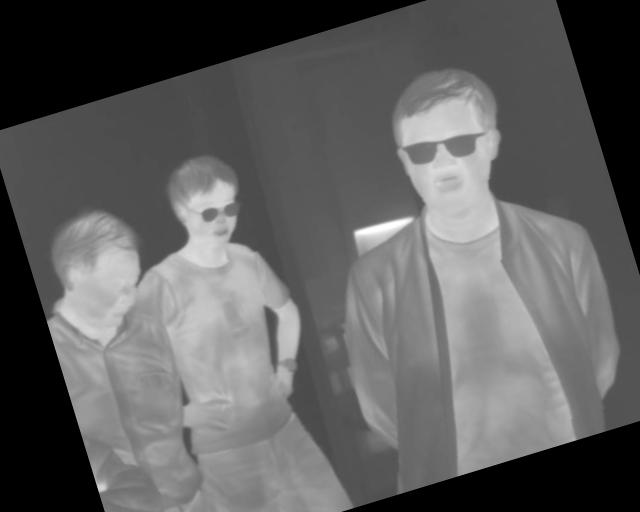face: (376, 52, 524, 226), (38, 196, 160, 342), (156, 145, 255, 257)
